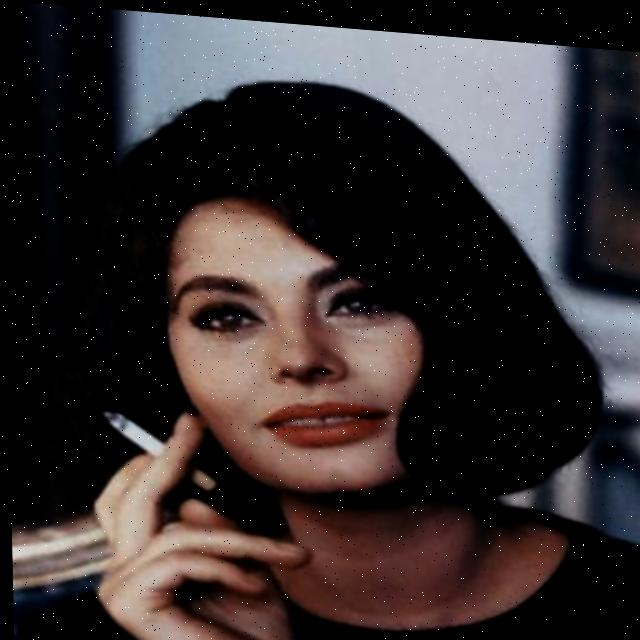cigarette: (101, 406, 216, 489)
